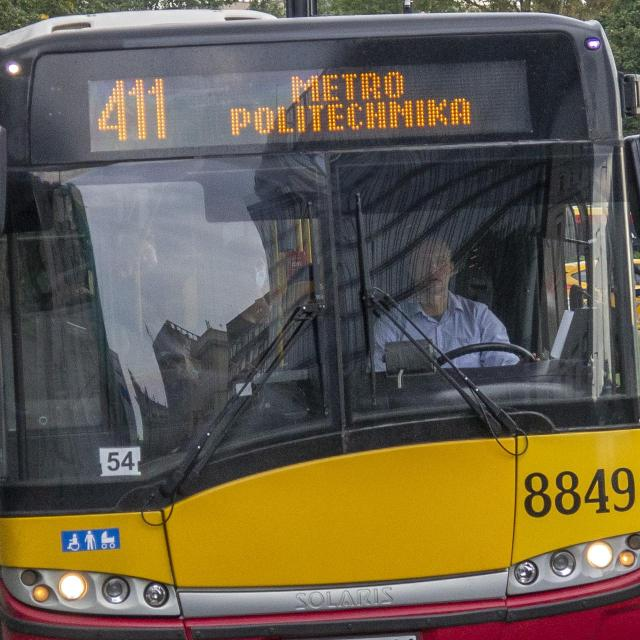Bus: (0, 10, 640, 640)
